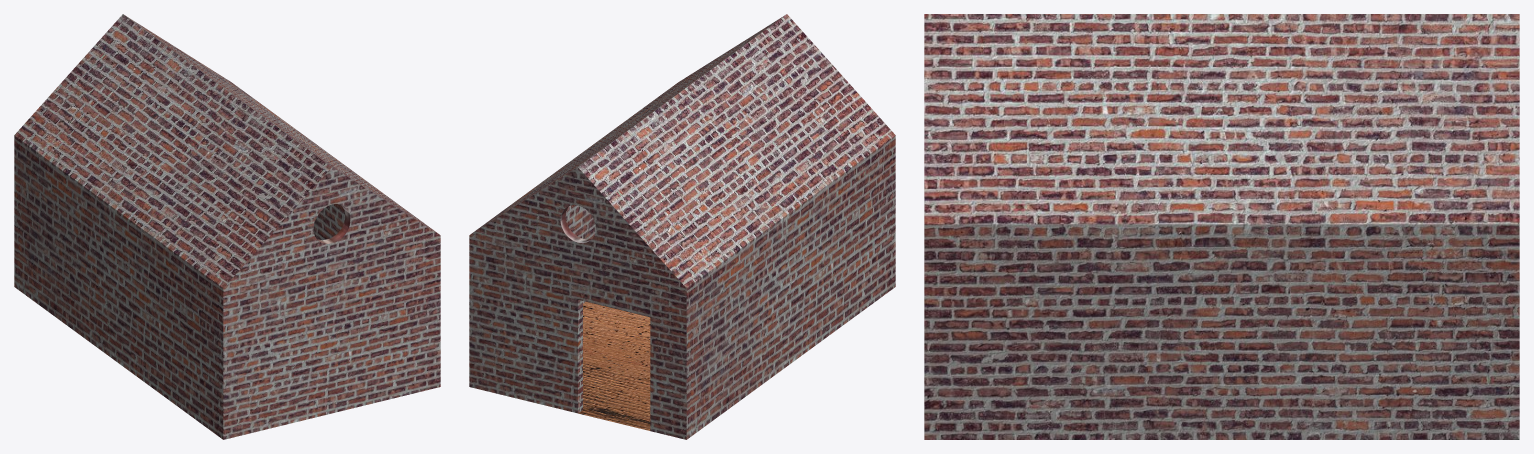
Rendered from House.fbx.
3 views of the same model, side by side, from view 1: azimuth 30°, elevation 25°; view 2: azimuth 150°, elevation 25°; view 3: azimuth 270°, elevation 25° (orthographic). The views are drawn at different scales.
Parts seen in each view (by area): view 1: House; view 2: House; view 3: House.
Boxes of the visible parts, x1,y1,x2,y2 form: House: (14, 14, 440, 439); House: (469, 14, 895, 439); House: (924, 14, 1519, 439).
Bounding box in the file's own units: 1200 × 1300 × 2000.
